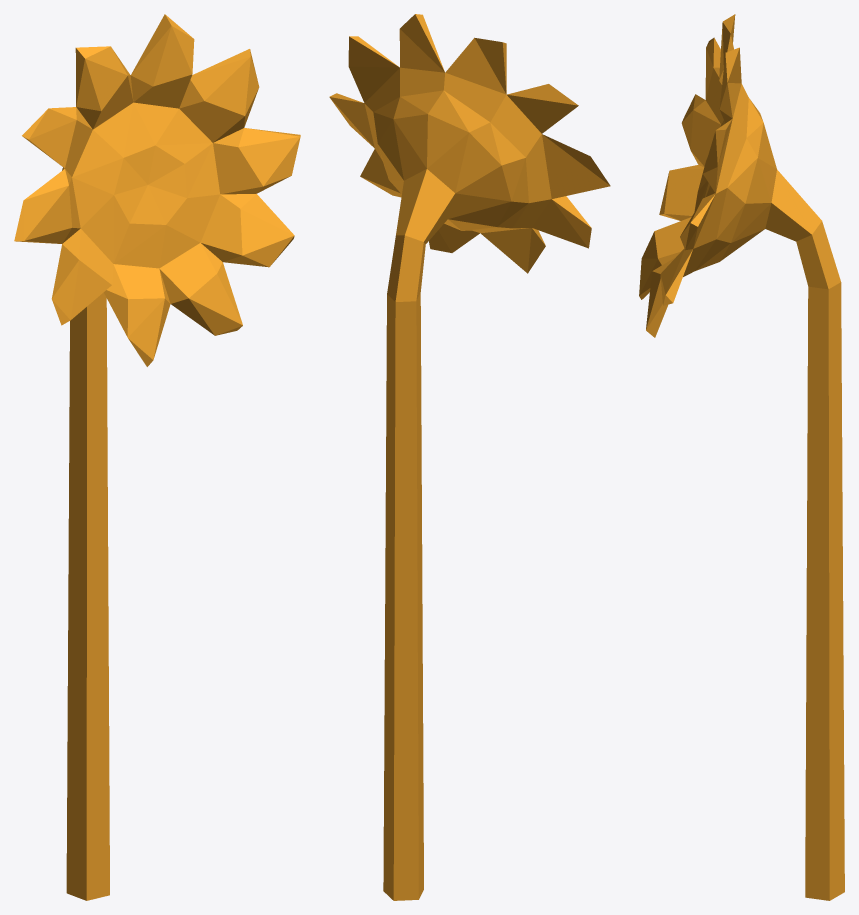
File: SM_Sunflower_Flower_A.fbx
3 renders of one model, left to right at view 1: azimuth 30°, elevation 25°; view 2: azimuth 150°, elevation 25°; view 3: azimuth 270°, elevation 25°, orthographic. The views are drawn at different scales.
Visible parts, largest first — view 1: sunflower-flower-a; view 2: sunflower-flower-a; view 3: sunflower-flower-a.
Part boxes in pixels (x1,y1,x2,y2): sunflower-flower-a: (14, 14, 300, 900); sunflower-flower-a: (329, 14, 610, 900); sunflower-flower-a: (639, 14, 844, 900).
Size of the model in its own units: 0.3651 by 1.07 by 0.2321.
